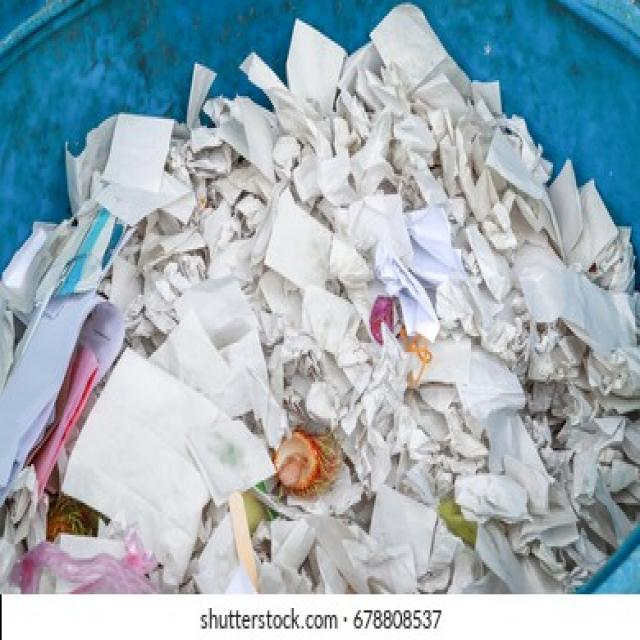Paper -Biodegradable-: (0, 10, 640, 588)
